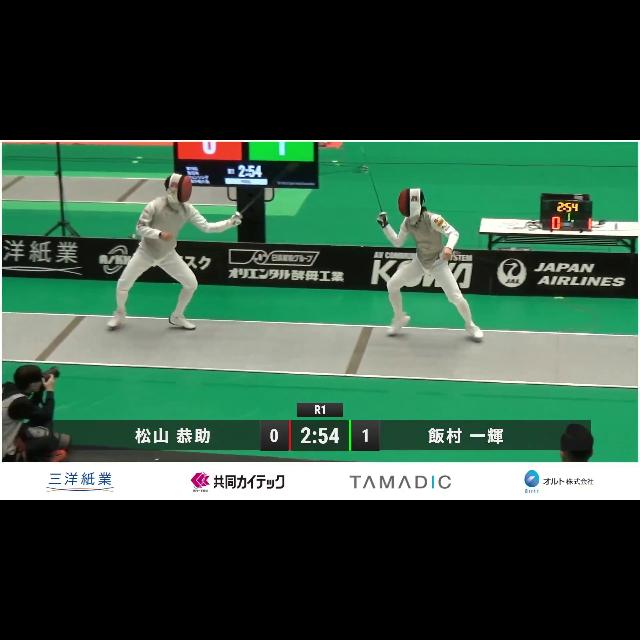blade: (234, 156, 302, 224), (352, 141, 386, 223)
